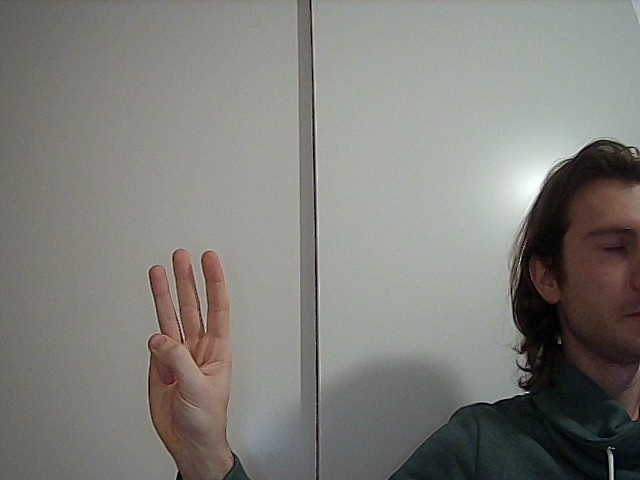w: (122, 235, 245, 448)
